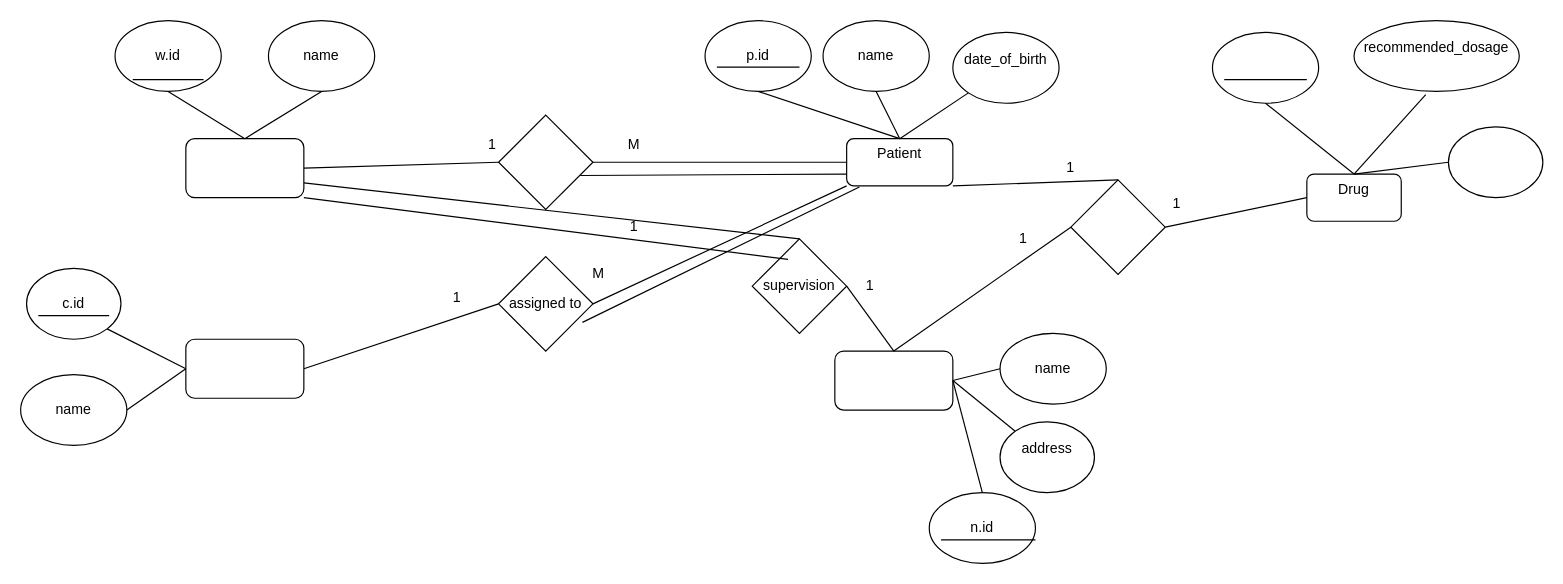
This 1563x584 diagram has some shape labels left out. Here are the shapes that lost their labels. From the top down, the centre of each, then its label:
At (1265,67): "drug_code".
At (244,167): "Ward".
At (545,161): "host".
At (1495,162): "brand_name".
At (1117,226): "administration".
At (244,368): "Consultant".
At (893,380): "Nurse".
